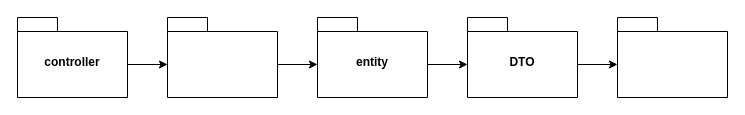
Image size: 745x115. Some labels were removed from this diagram. The shapes that lost their labels are listed below. From the top down, each one's centre as x and y in pixels, then its label:
At point (222, 57): "service".
At point (672, 57): "repository".
